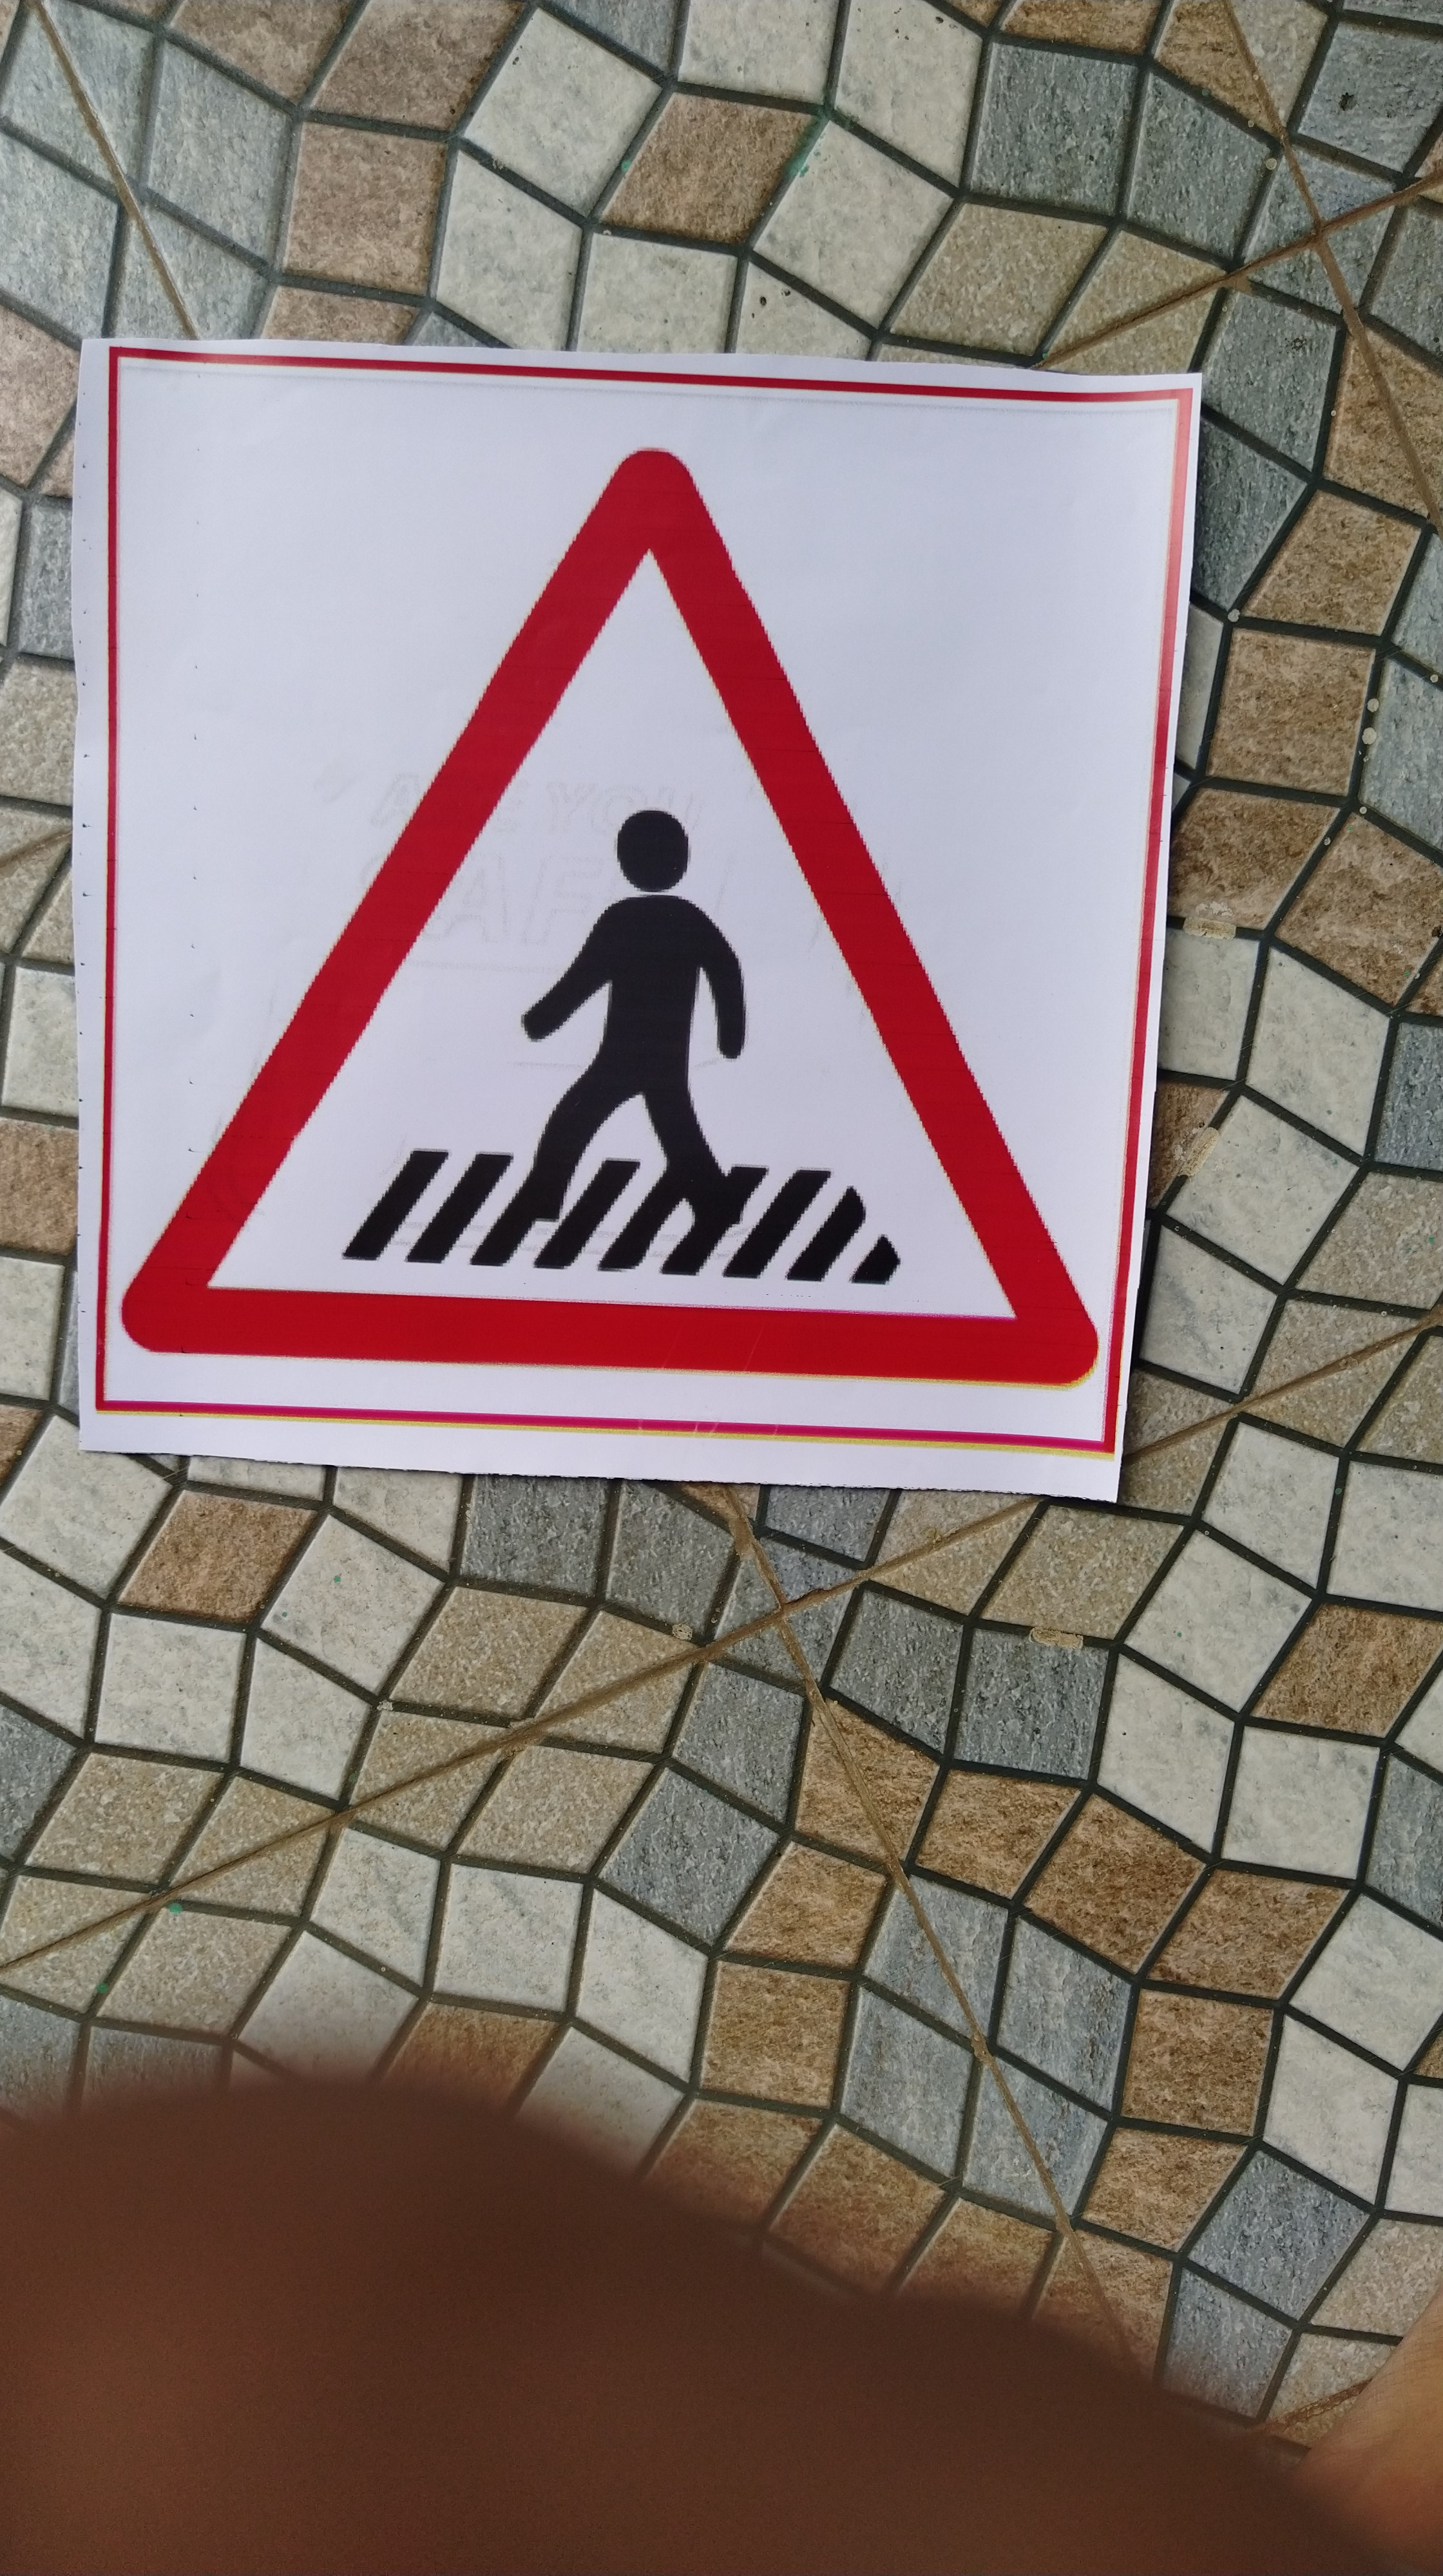pedestrain crossing: (90, 366, 1121, 1493)
